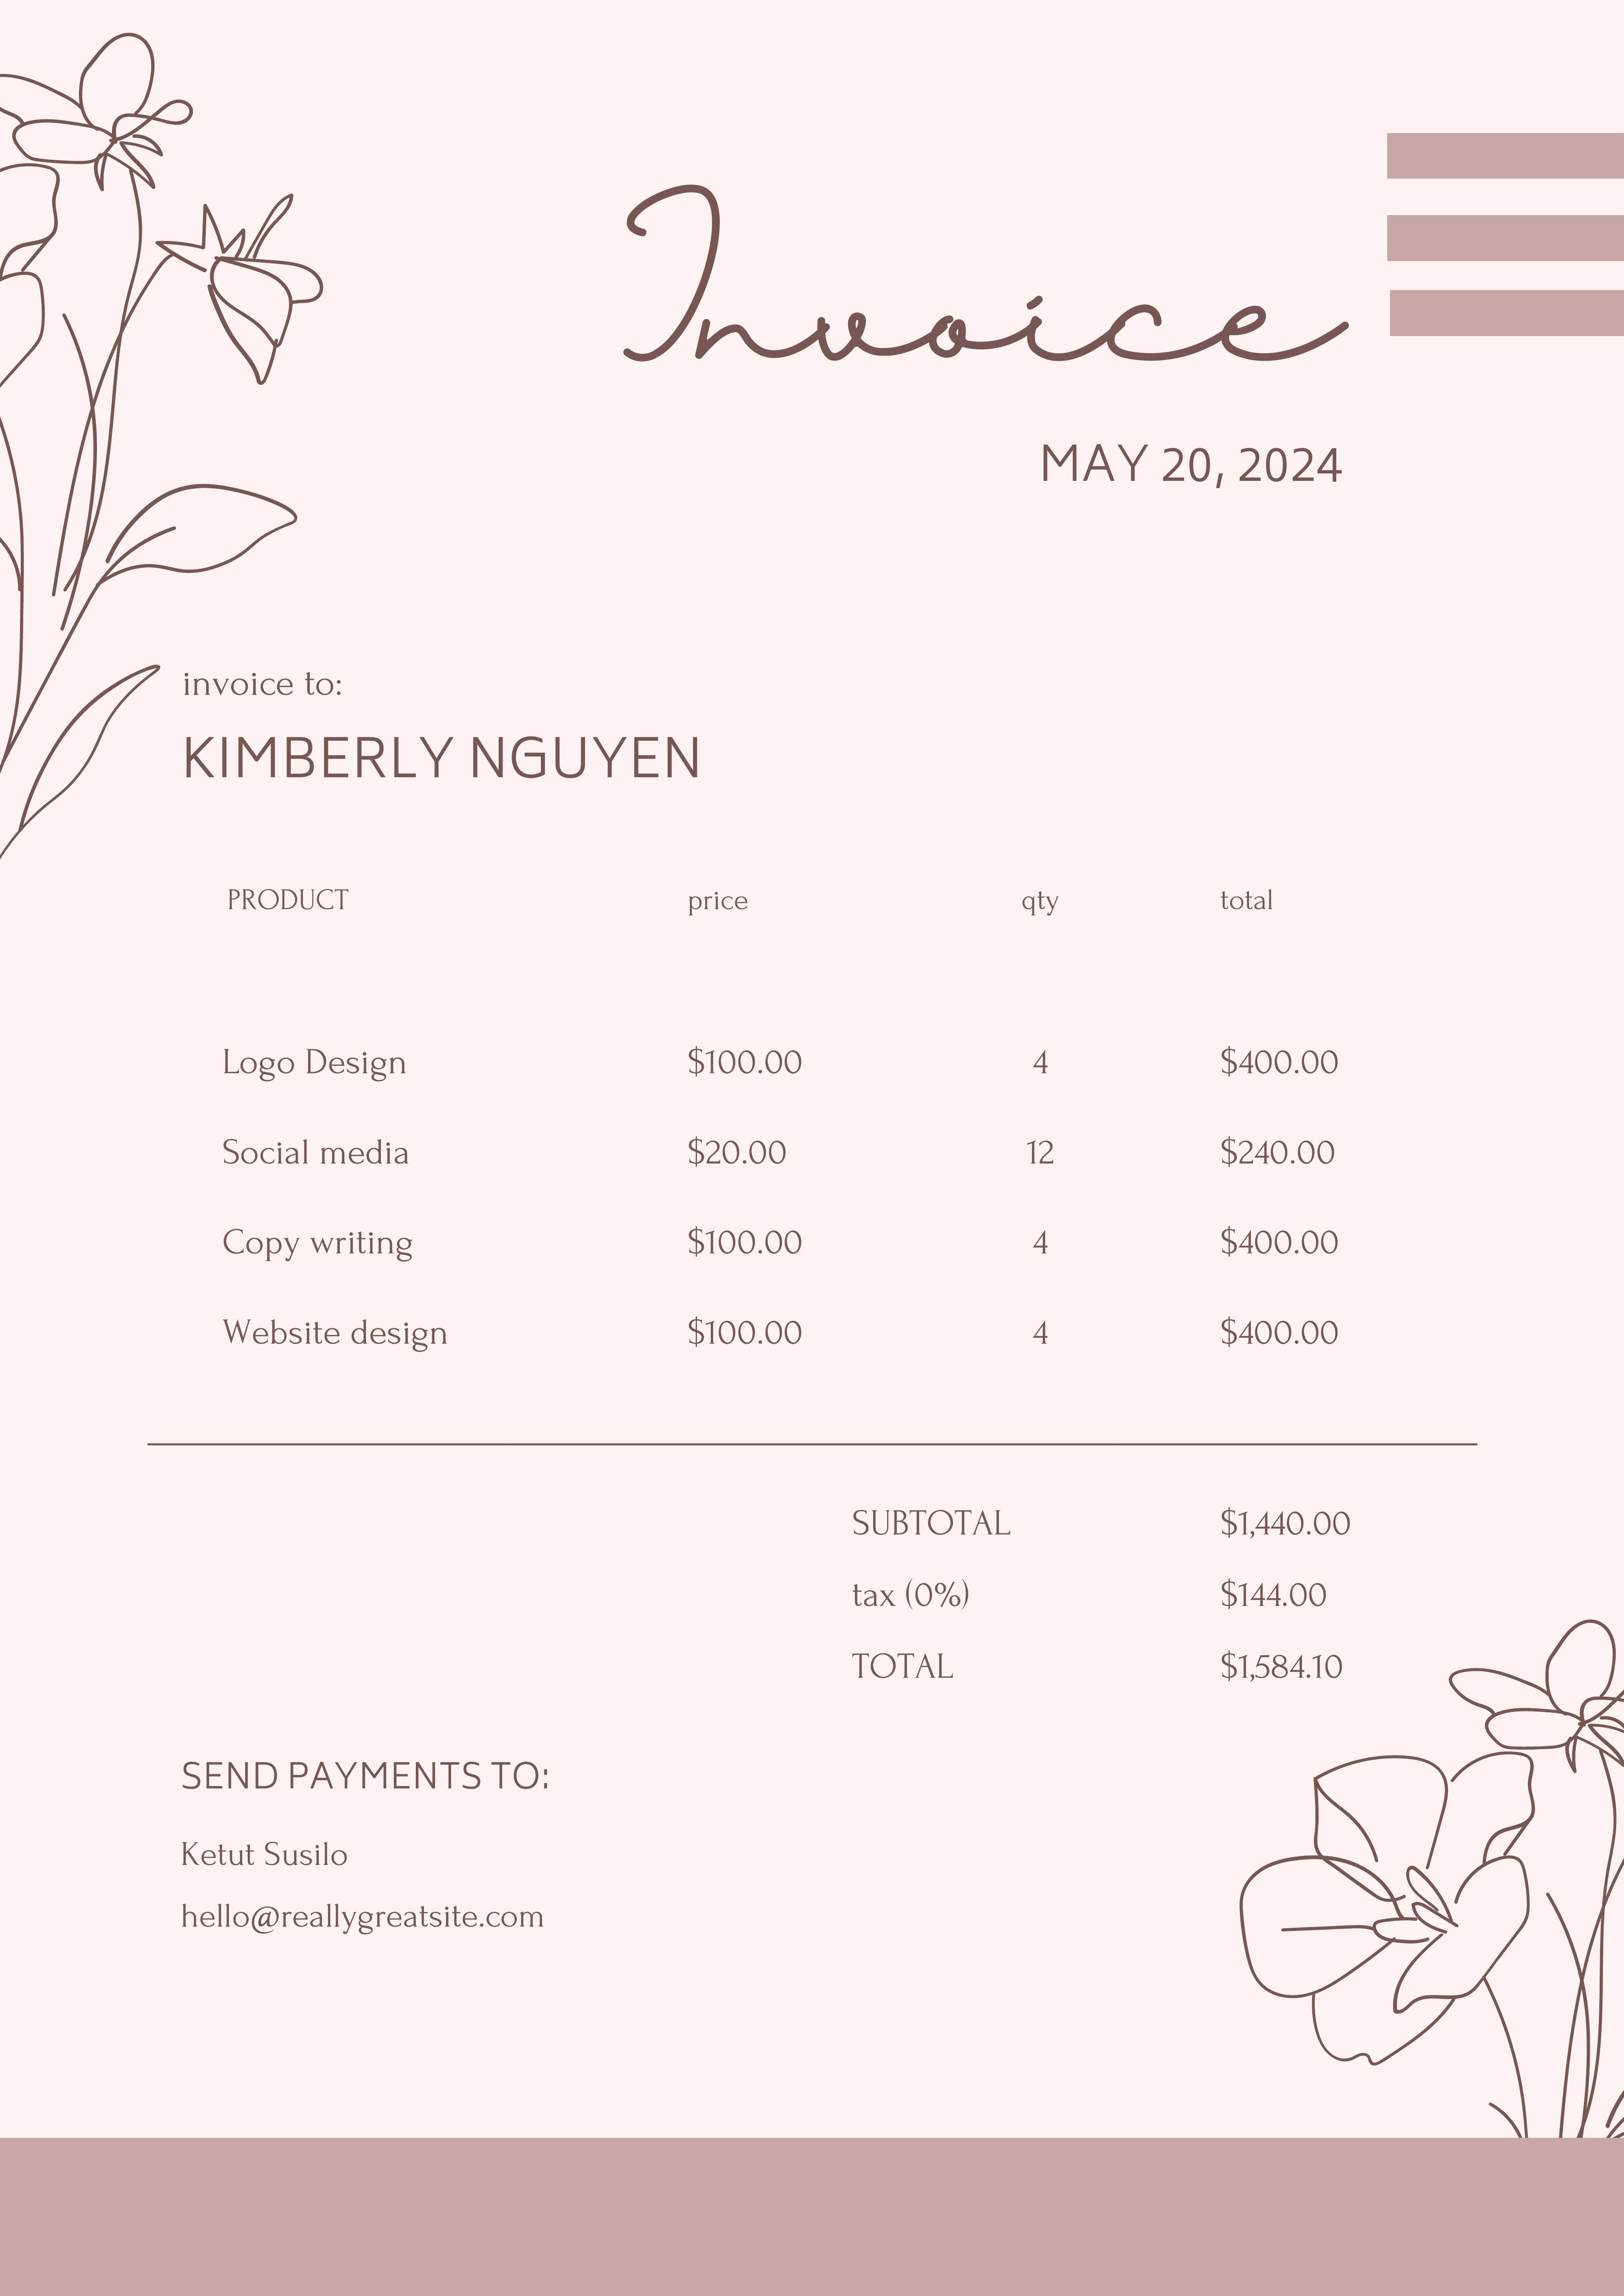ROI: (156, 834, 1422, 1368), (840, 1491, 1610, 1699), (156, 1748, 575, 1948), (158, 657, 708, 782), (1016, 437, 1359, 499)
